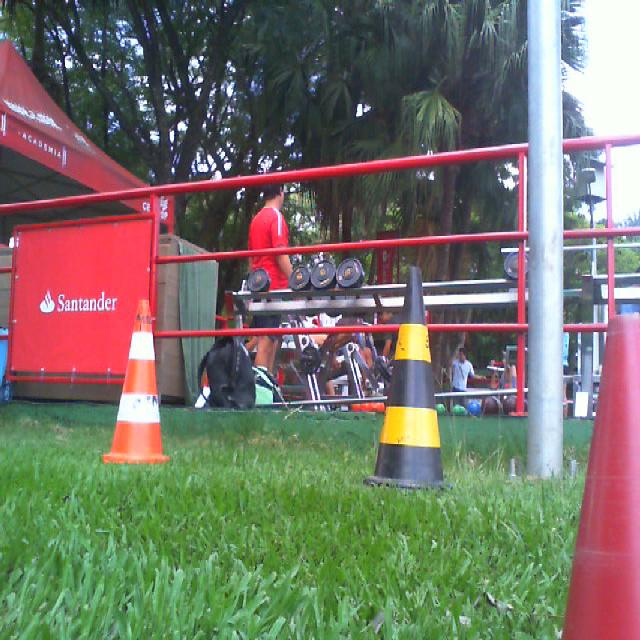cone: (556, 313, 640, 640), (359, 266, 448, 490), (103, 298, 166, 462)
